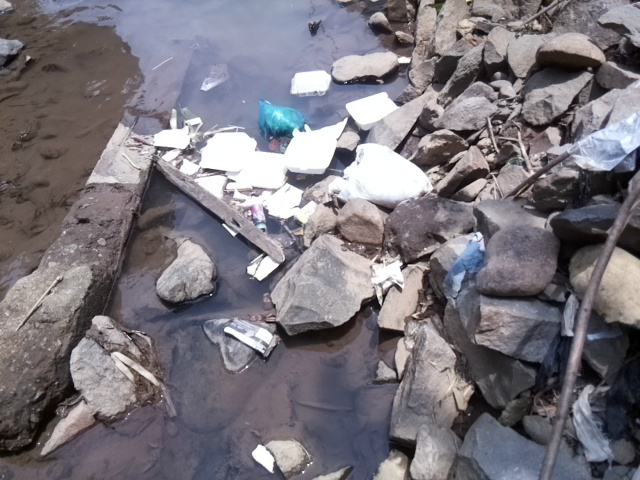Sampah_Plastik: (341, 144, 435, 204), (567, 116, 640, 176), (224, 316, 278, 356), (254, 97, 307, 137)
Sampah_Styrofoam: (204, 131, 321, 217), (292, 111, 344, 178), (199, 127, 255, 174), (346, 91, 405, 125), (289, 69, 332, 97), (153, 124, 196, 151)
